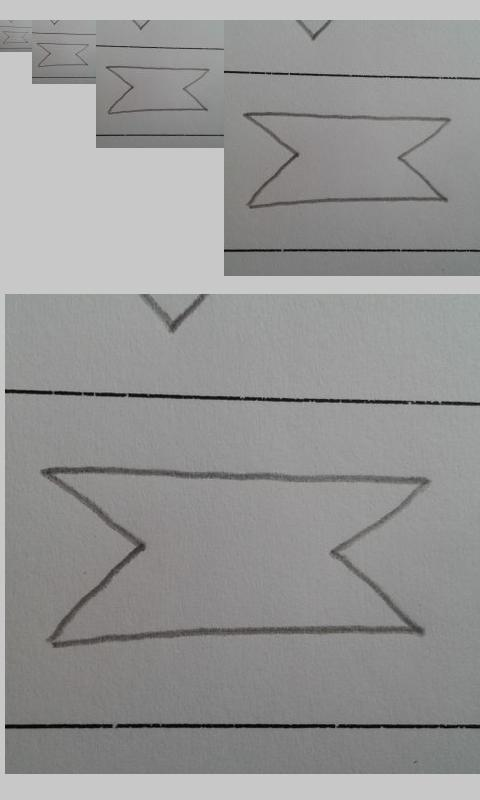edit_text: (46, 466, 426, 645), (244, 109, 451, 209), (105, 65, 211, 114), (37, 42, 89, 67), (2, 31, 28, 44)
